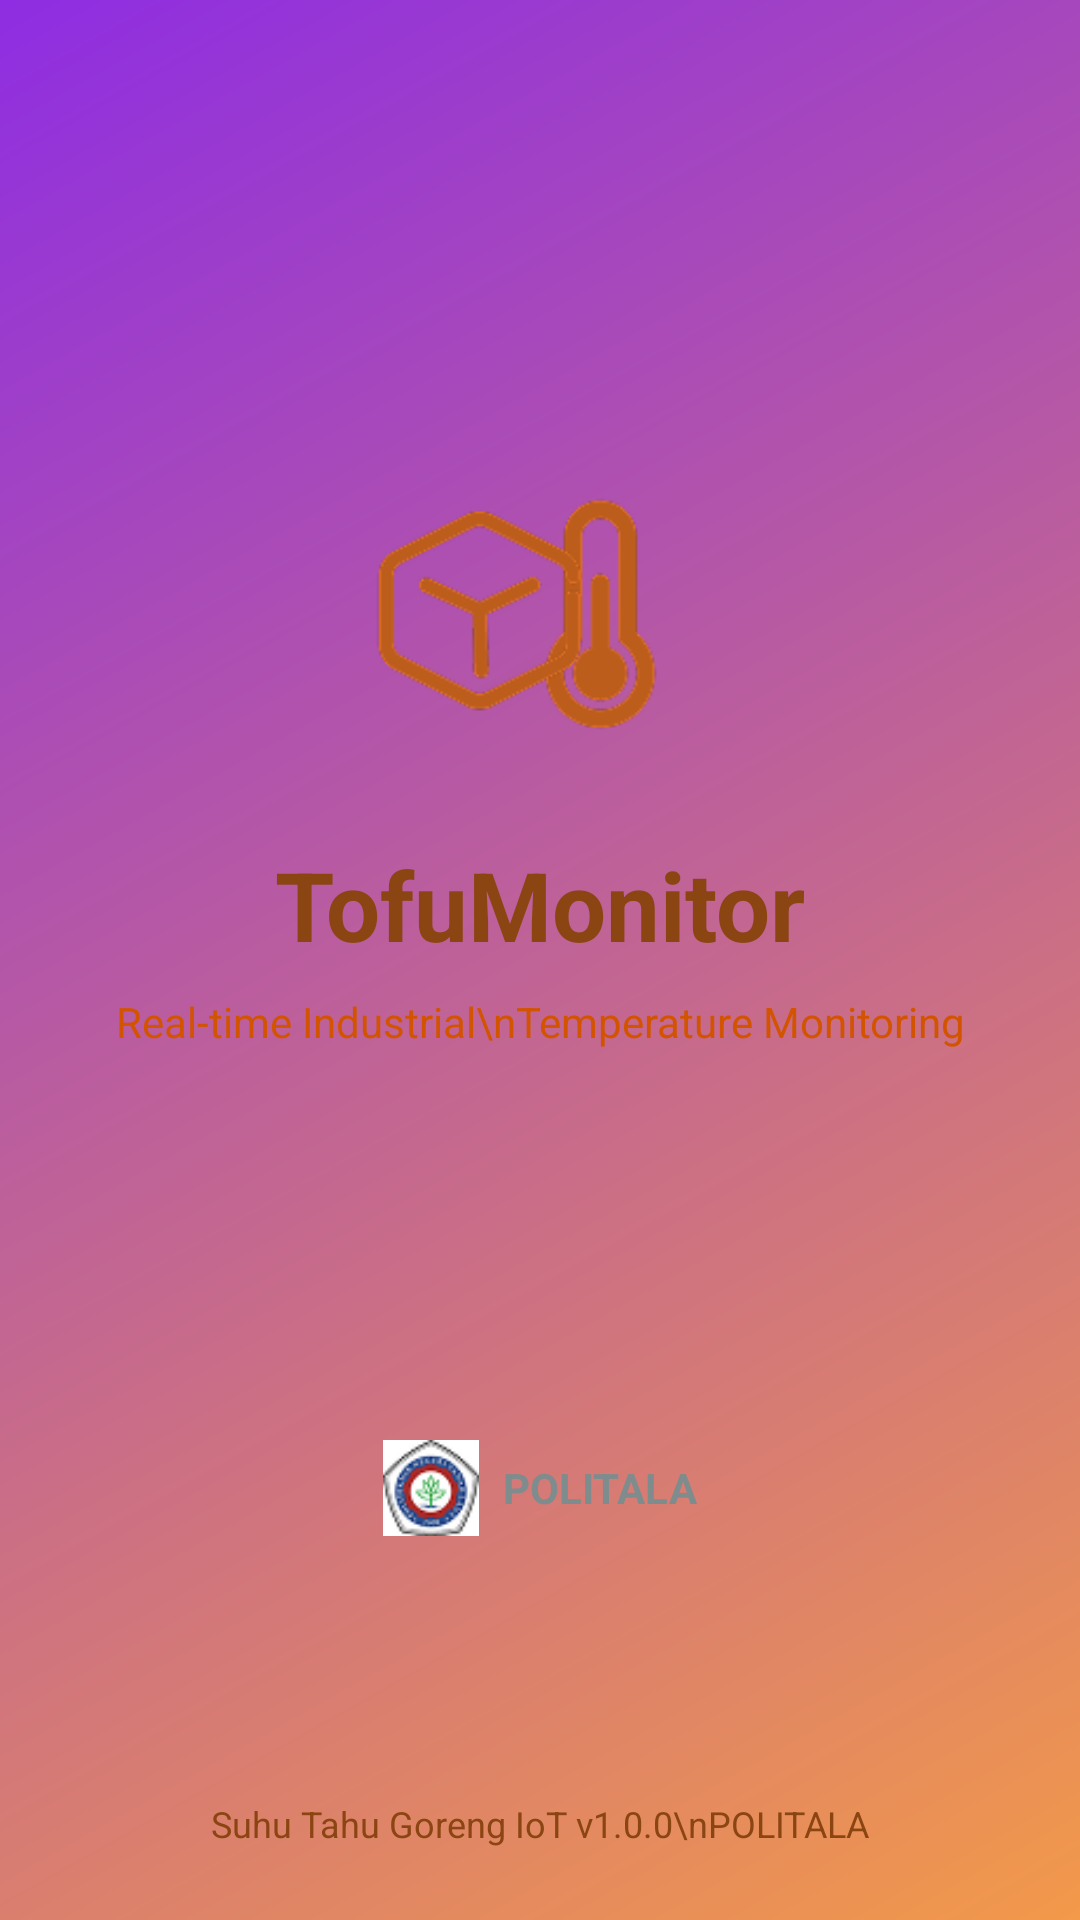

Screen size 1080px×1920px. Icon name, then its box in pixels as (x1, y1, x2, y2):
suhutahu: (360, 485, 720, 792)
